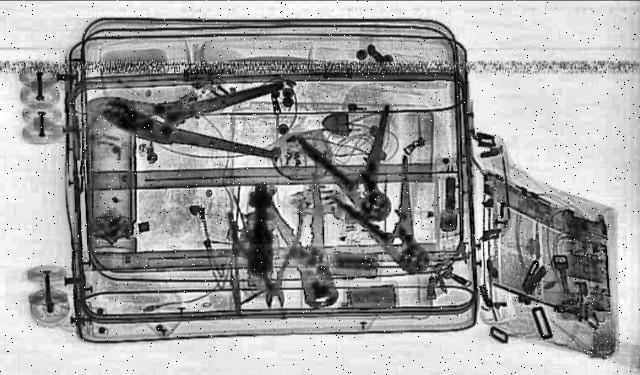Pliers: (316, 154, 476, 280), (95, 64, 308, 158), (288, 102, 429, 226), (254, 178, 362, 309), (230, 210, 318, 310)
